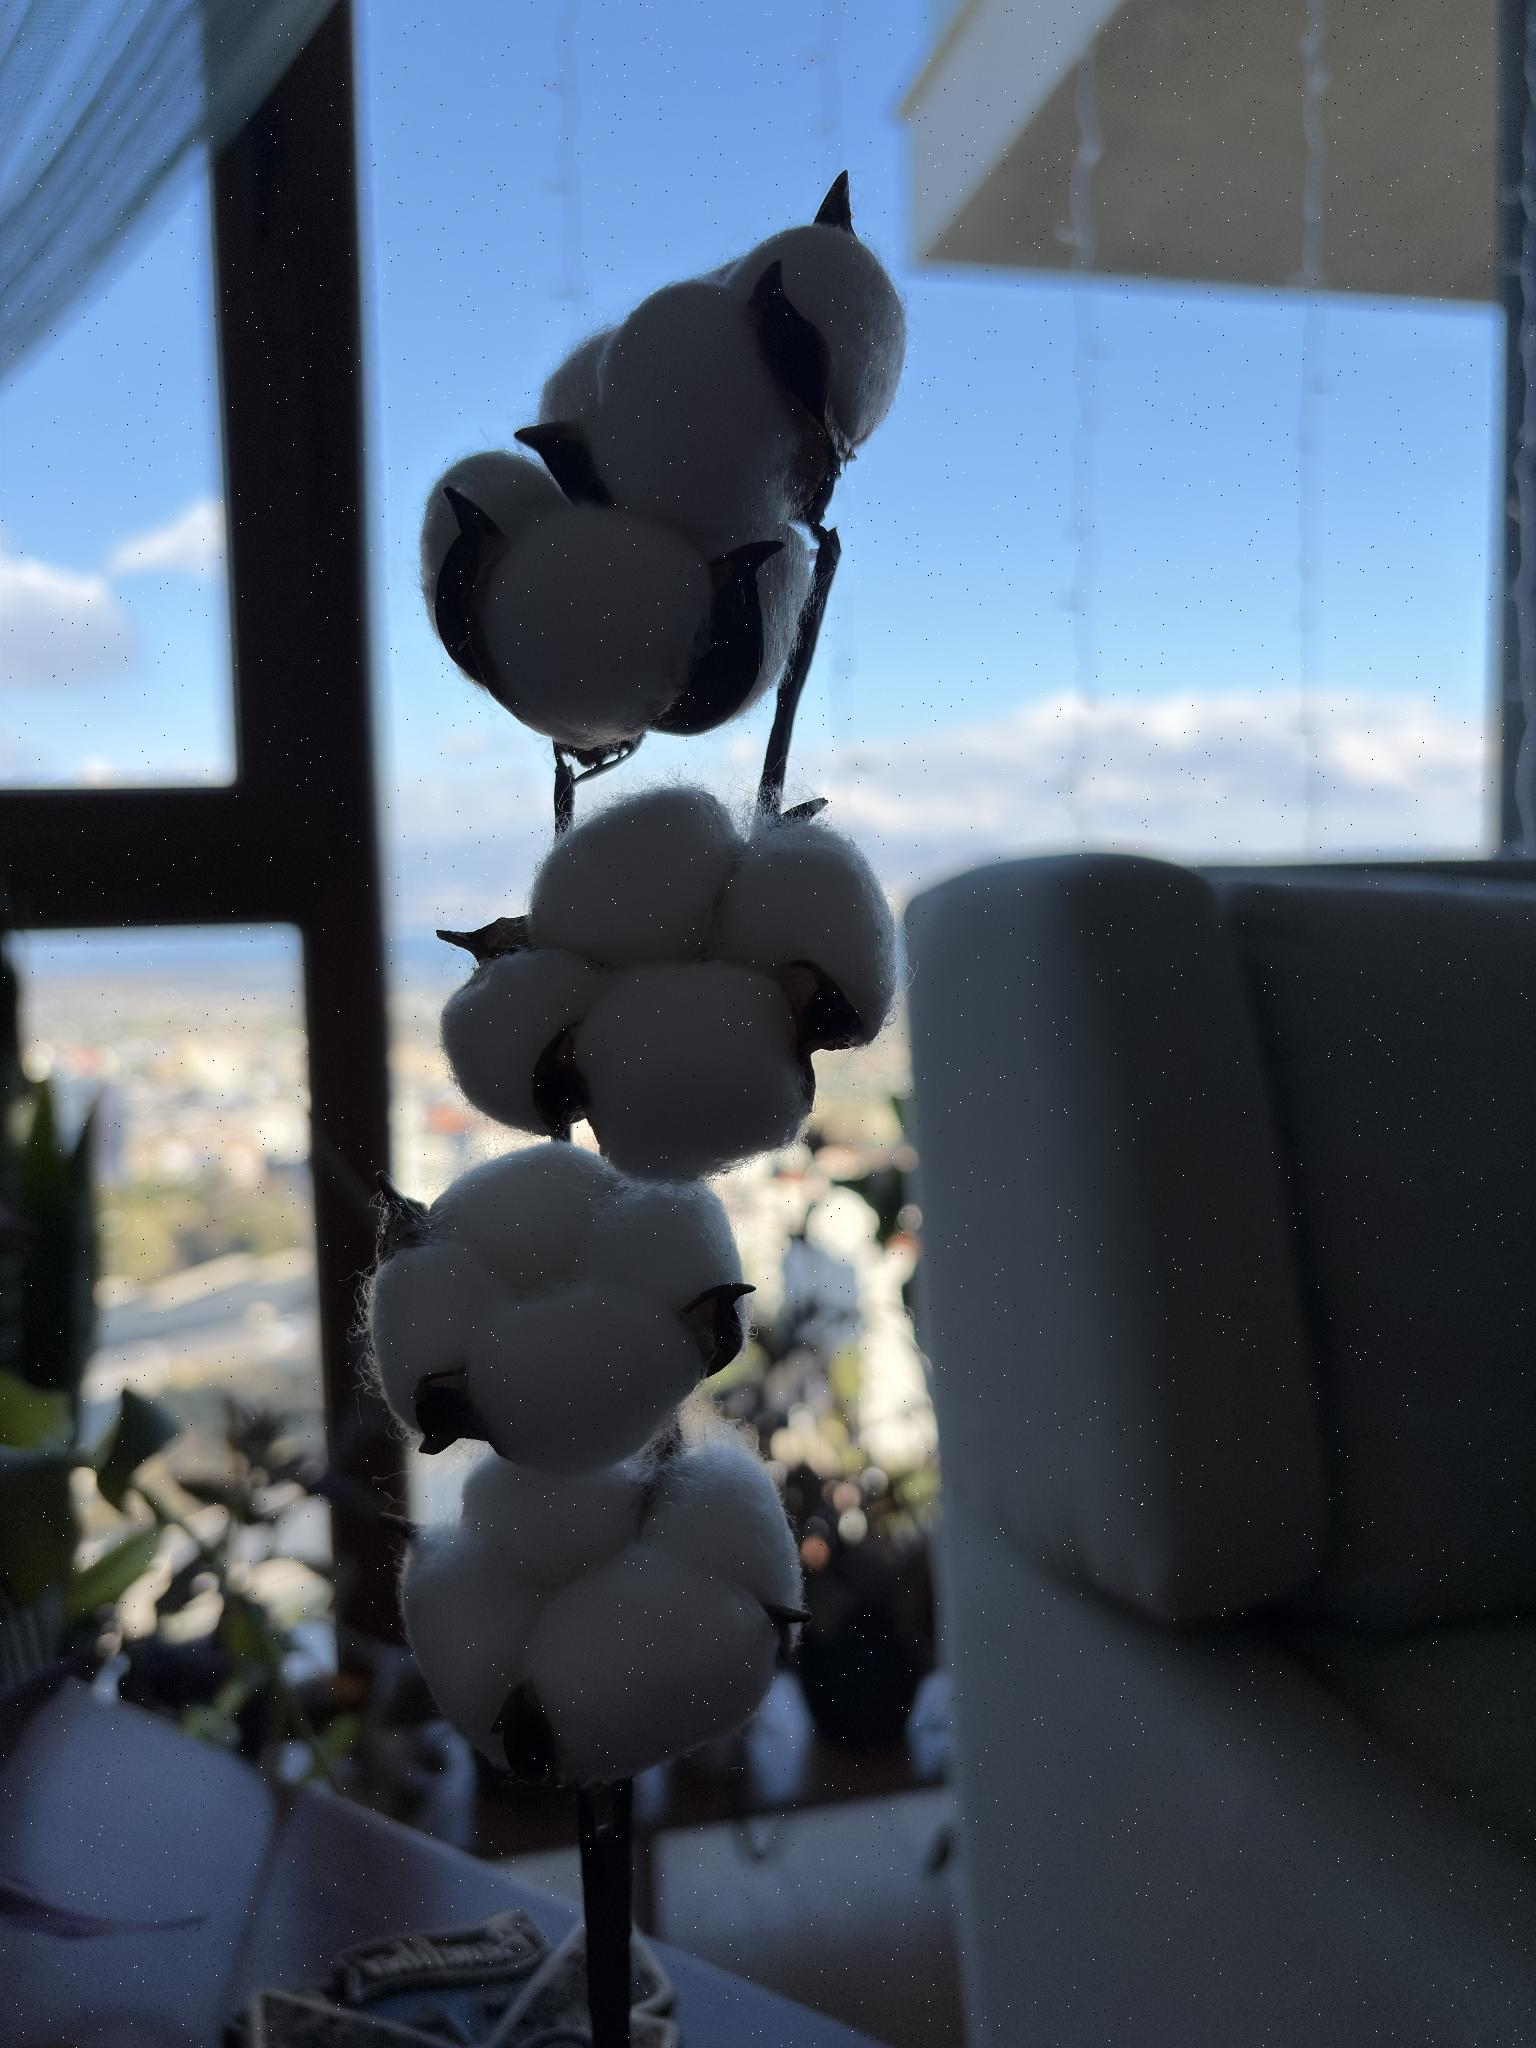cotton_boll: (582, 279, 805, 560), (526, 1543, 778, 1782), (471, 505, 715, 750), (574, 961, 812, 1180), (468, 1284, 703, 1476), (710, 819, 897, 1045), (726, 216, 907, 448), (529, 787, 742, 968), (402, 1521, 547, 1756), (440, 948, 607, 1135), (641, 1440, 803, 1609), (434, 1143, 618, 1288), (419, 450, 571, 626), (463, 1453, 639, 1587), (369, 1245, 494, 1432), (586, 1182, 742, 1309), (745, 522, 810, 708), (539, 327, 616, 429)
cotton_boll-cluster: (411, 145, 910, 768), (419, 779, 905, 1166), (390, 1426, 810, 1775), (365, 1142, 750, 1461)
